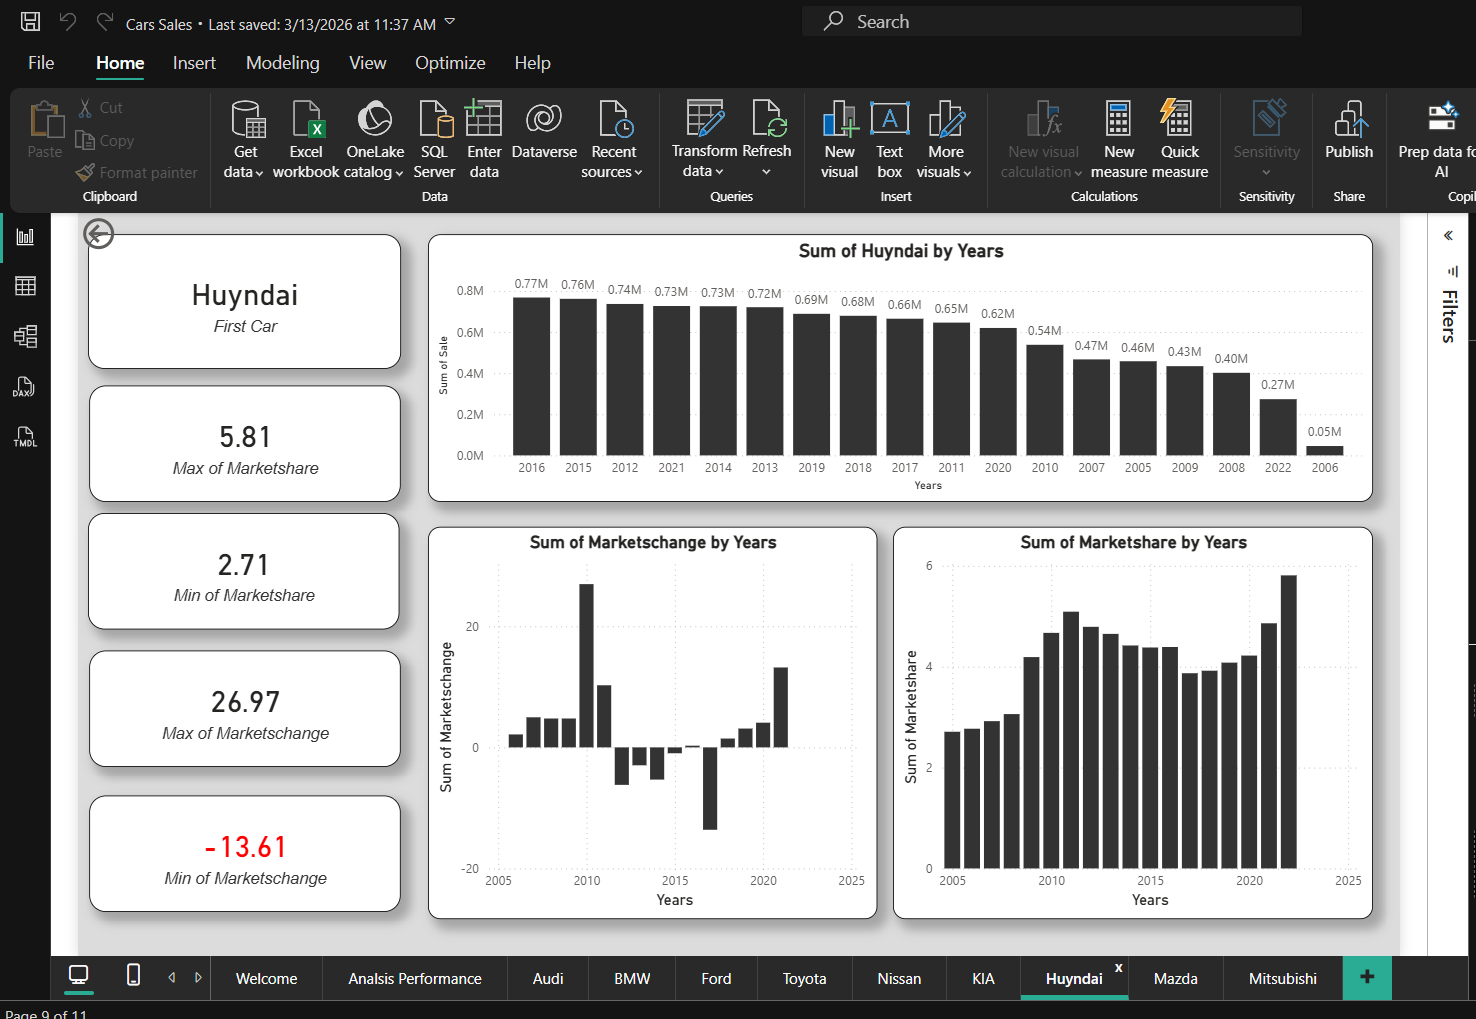

The dashboard page shown, as its layout file describes it:
{"tool":"powerbi","page":{"name":"Huyndai","canvas":[1280,720],"ordinal":8},"visuals":[{"type":"card","fields":{"Values":["Min(CAR SALES GLOBALY.Car)"]},"box":[9.6,20.6,303.3,130.4],"z":0},{"type":"actionButton","box":[0,0,100,40],"z":1000},{"type":"card","fields":{"Values":["Max(CAR SALES GLOBALY.Marketshare)"]},"box":[11,167.4,301.9,112.5],"z":2000},{"type":"card","fields":{"Values":["Min(CAR SALES GLOBALY.Marketshare)"]},"box":[9.6,290.9,301.9,112.5],"z":3000},{"type":"card","fields":{"Values":["Max(CAR SALES GLOBALY.Marketschange)"]},"box":[11,424,301.9,112.5],"z":4000},{"type":"card","fields":{"Values":["Min(CAR SALES GLOBALY.Marketschange)"]},"box":[11,564,301.9,112.5],"z":5000},{"type":"columnChart","title":"Sum of Huyndai by Years","fields":{"Category":["CAR SALES GLOBALY.Years"],"Y":["Sum(CAR SALES GLOBALY.Sale)"]},"box":[338.9,20.6,915.3,259.3],"z":6000},{"type":"lineStackedColumnComboChart","fields":{"Category":["CAR SALES GLOBALY.Years"],"Y":["Sum(CAR SALES GLOBALY.Marketschange)"]},"box":[338.9,303.3,435,380.1],"z":7000},{"type":"lineStackedColumnComboChart","fields":{"Category":["CAR SALES GLOBALY.Years"],"Y":["Sum(CAR SALES GLOBALY.Marketshare)"]},"box":[789,303.3,465.2,380.1],"z":8000}]}

Visuals, with their boxes on the page's 1280x720 design canvas (x1, y1, x2, y2). These are canvas units, not pixel positions in the 1476x1019 screenshot, which may show the page scaled, cropped or inside an application window:
card - Min(CAR SALES GLOBALY.Car): bbox=(10, 21, 313, 151)
actionButton: bbox=(0, 0, 100, 40)
card - Max(CAR SALES GLOBALY.Marketshare): bbox=(11, 167, 313, 280)
card - Min(CAR SALES GLOBALY.Marketshare): bbox=(10, 291, 312, 403)
card - Max(CAR SALES GLOBALY.Marketschange): bbox=(11, 424, 313, 536)
card - Min(CAR SALES GLOBALY.Marketschange): bbox=(11, 564, 313, 676)
"Sum of Huyndai by Years" columnChart: bbox=(339, 21, 1254, 280)
lineStackedColumnComboChart - CAR SALES GLOBALY.Years x Sum(CAR SALES GLOBALY.Marketschange): bbox=(339, 303, 774, 683)
lineStackedColumnComboChart - CAR SALES GLOBALY.Years x Sum(CAR SALES GLOBALY.Marketshare): bbox=(789, 303, 1254, 683)
